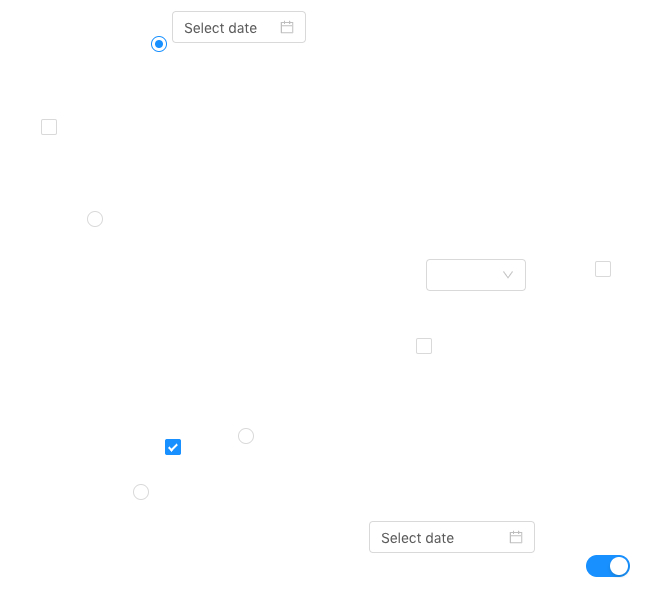Checkbox: (41, 116, 57, 137), (165, 436, 181, 457), (416, 335, 432, 356), (595, 258, 611, 279)
DatePicker: (369, 521, 535, 553), (172, 11, 306, 43)
Radio: (87, 208, 103, 228), (151, 33, 167, 53), (133, 481, 149, 501), (238, 425, 254, 445)
Select: (426, 259, 526, 291)
Switch: (586, 554, 630, 578)
